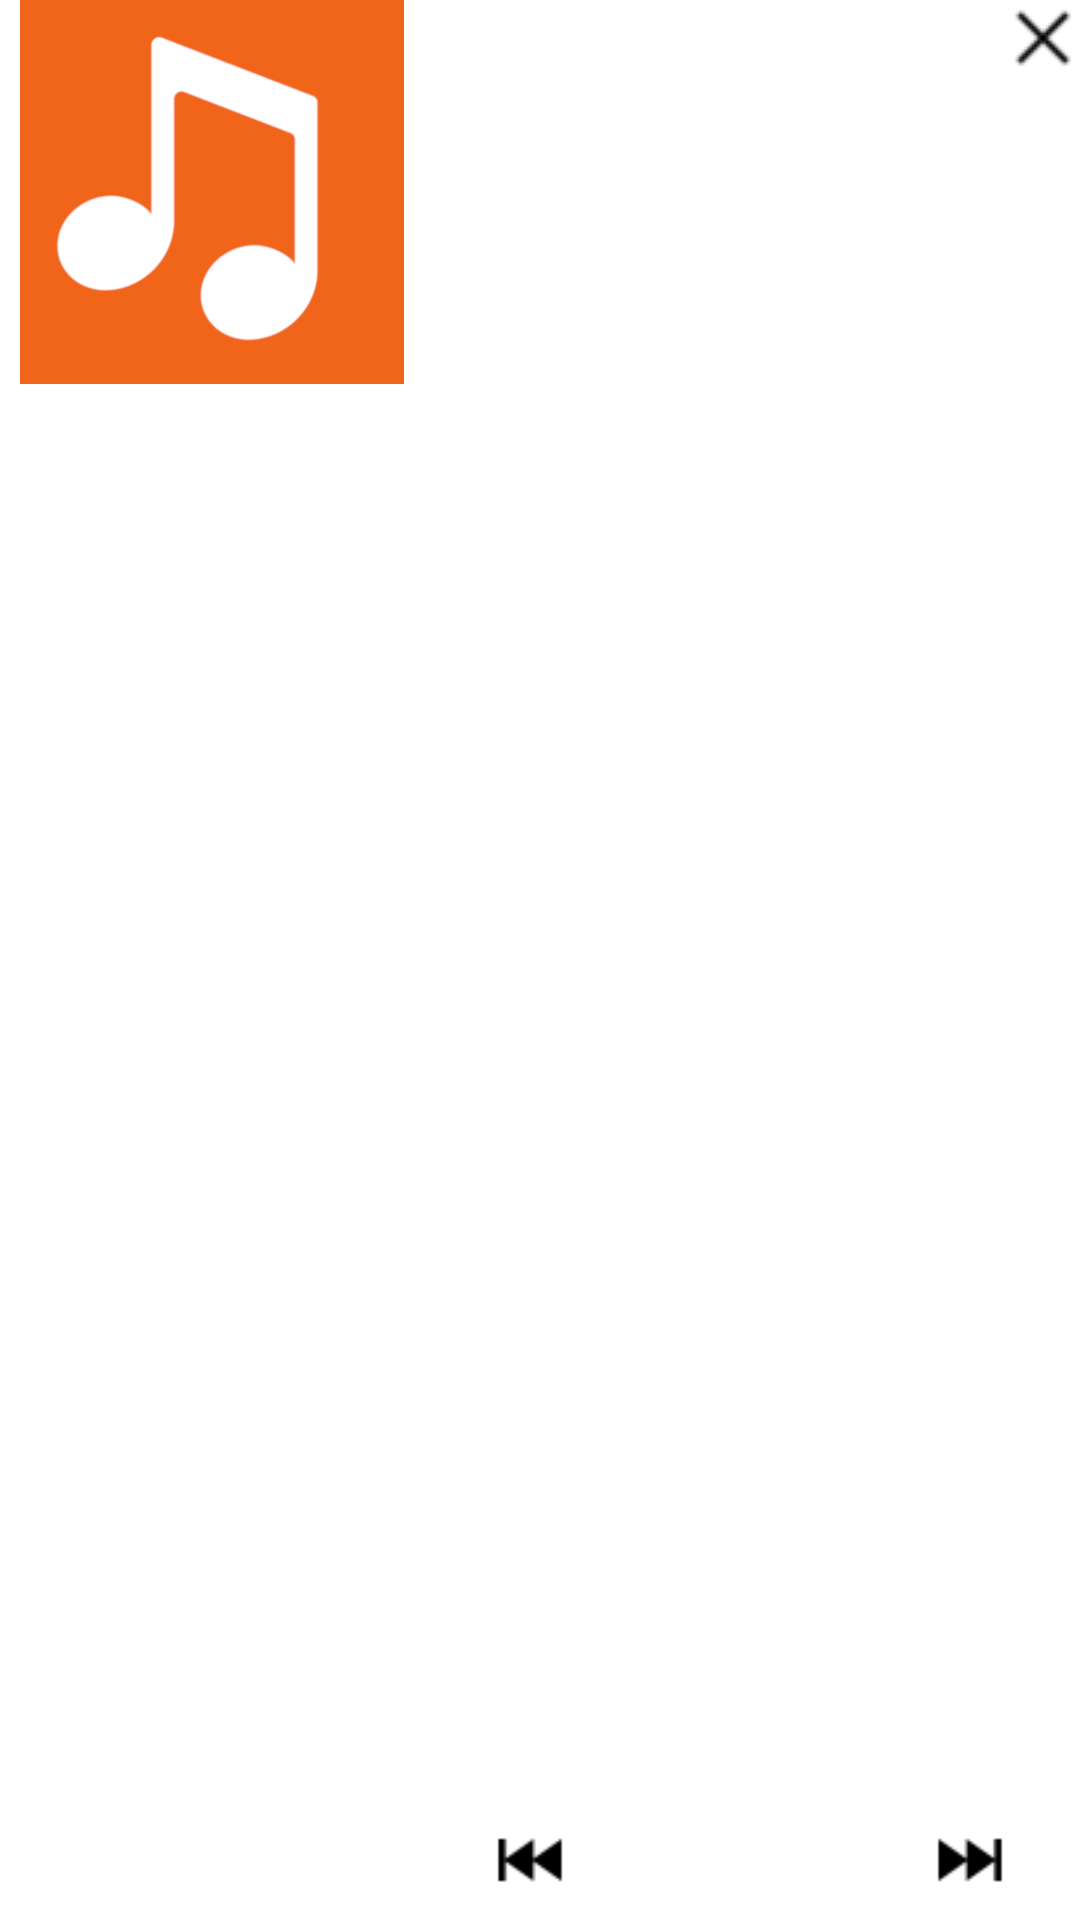

Named icons in this screenshot (1080×1920) and their bounding boxes, [x1=x1, y1=y1, x2=x2, y2=y2]:
next: [x1=937, y1=1838, x2=1003, y2=1882]
prev: [x1=497, y1=1838, x2=563, y2=1882]
remove: [x1=1015, y1=10, x2=1071, y2=66]
